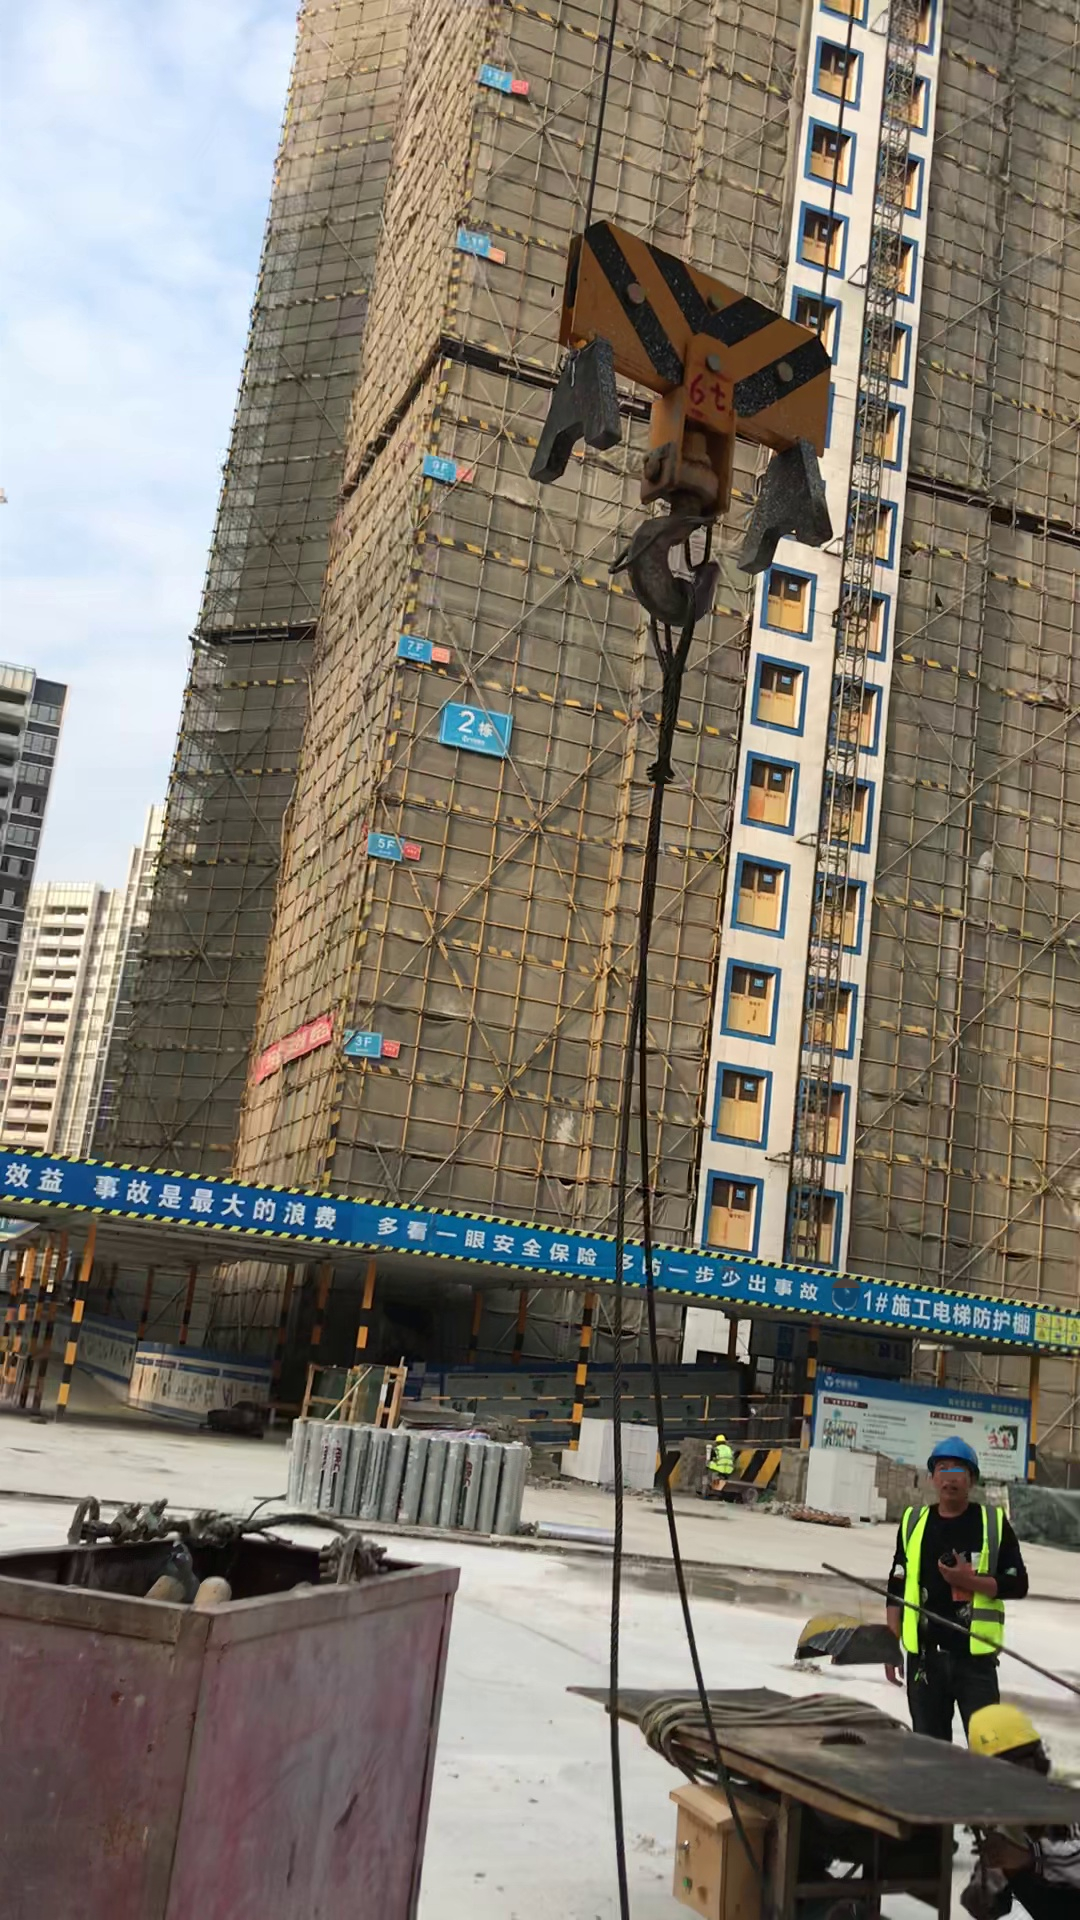brick: (556, 1423, 669, 1483), (803, 1445, 888, 1517)
cutter: (559, 1647, 1068, 1920)
helmet: (966, 1707, 1053, 1759), (922, 1427, 986, 1481)
hook: (505, 172, 843, 632)
hopper: (3, 1476, 518, 1895)
person: (877, 1425, 1047, 1733), (943, 1700, 1080, 1913), (704, 1429, 738, 1488)
slogan: (11, 1151, 1080, 1350), (248, 1015, 340, 1083)
vest: (905, 1509, 1005, 1660)
